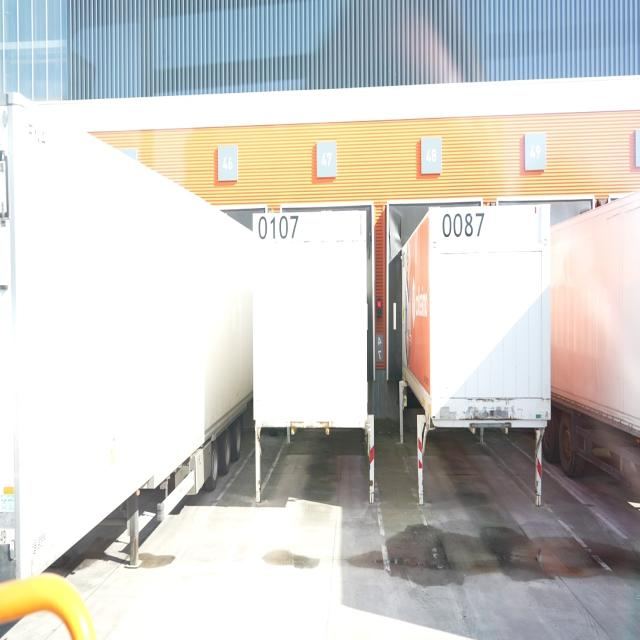Code: (438, 209, 488, 243), (254, 212, 304, 244)
